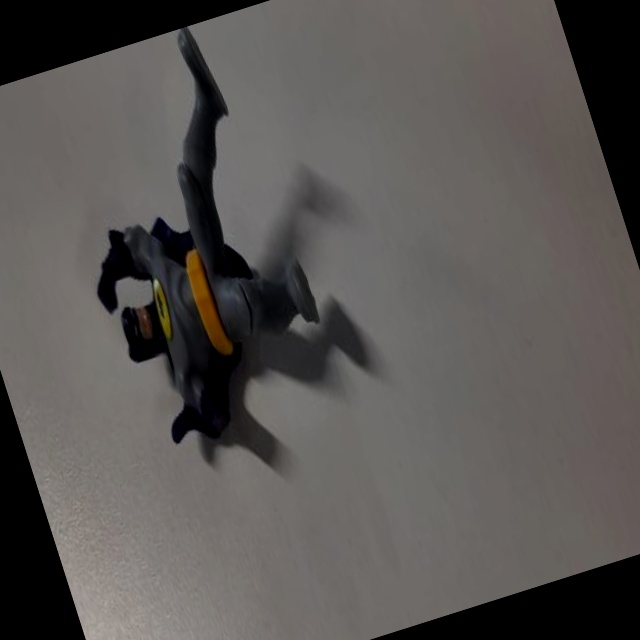Batman: (30, 14, 359, 476)
